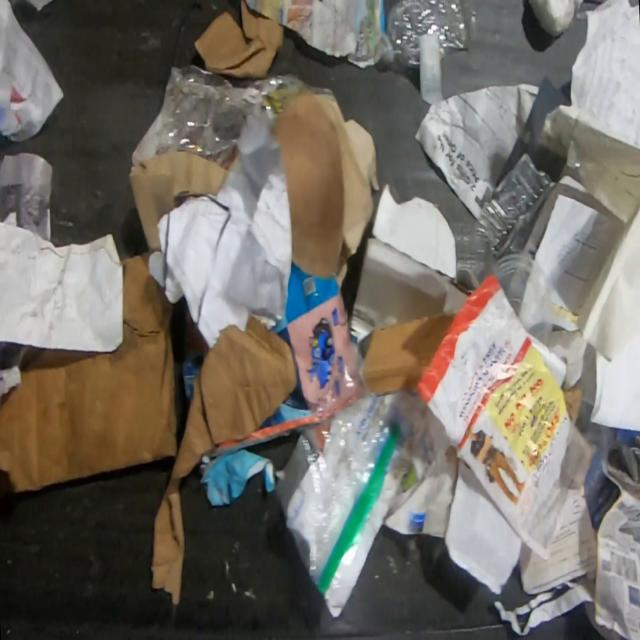cardboard: (149, 310, 299, 607), (0, 248, 179, 495), (273, 92, 349, 282), (347, 237, 474, 345), (316, 94, 382, 260), (127, 151, 231, 252), (371, 182, 458, 284), (364, 311, 456, 396), (193, 0, 286, 80), (528, 0, 576, 39)
rigid_plastic: (457, 151, 559, 290), (371, 0, 478, 71), (490, 253, 555, 357)
soft_plastic: (271, 340, 409, 614), (156, 63, 336, 158)
